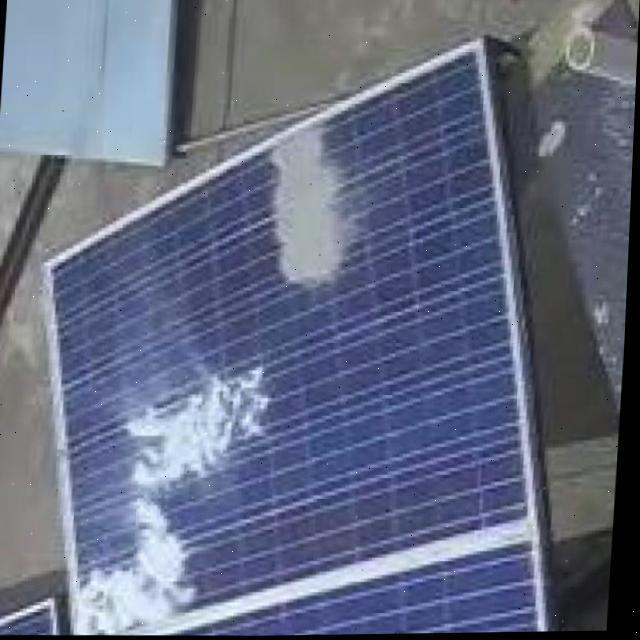Anomaly Solar Panel: (0, 48, 585, 635)
Snow: (79, 351, 274, 635), (264, 119, 361, 294)
